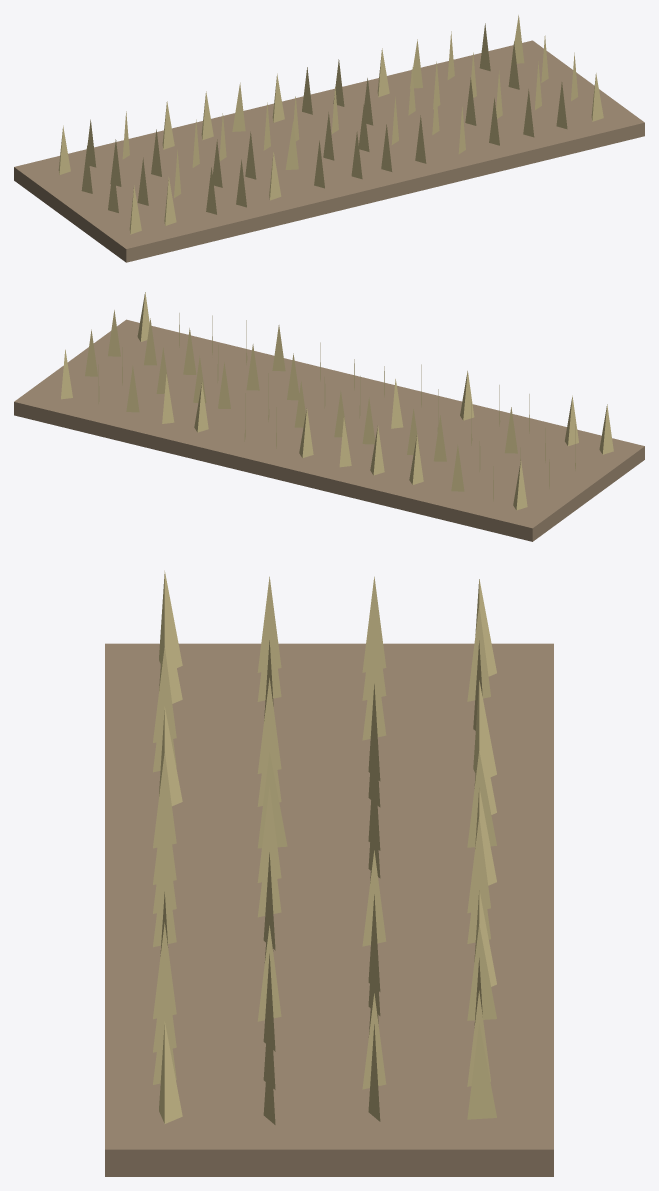
Rendered from terrace_wheat_field_lod2.glb.
The picture shows the model from 3 angles, top to bottom: view 1: azimuth 30°, elevation 25°; view 2: azimuth 150°, elevation 25°; view 3: azimuth 270°, elevation 25°; orthographic projection. The views are drawn at different scales.
Visible parts, largest first — view 1: m; view 2: m; view 3: m.
Boxes of the visible parts, box(x1,y1,x2,y2) form: m: box(14, 15, 644, 262); m: box(14, 292, 644, 541); m: box(105, 570, 553, 1176).
Size of the model in its own units: 8 by 0.9053 by 3.
